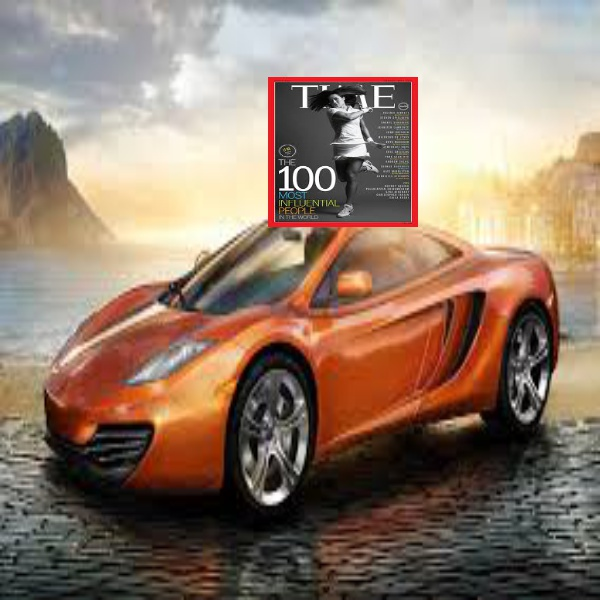time_cover: (260, 63, 421, 232)
